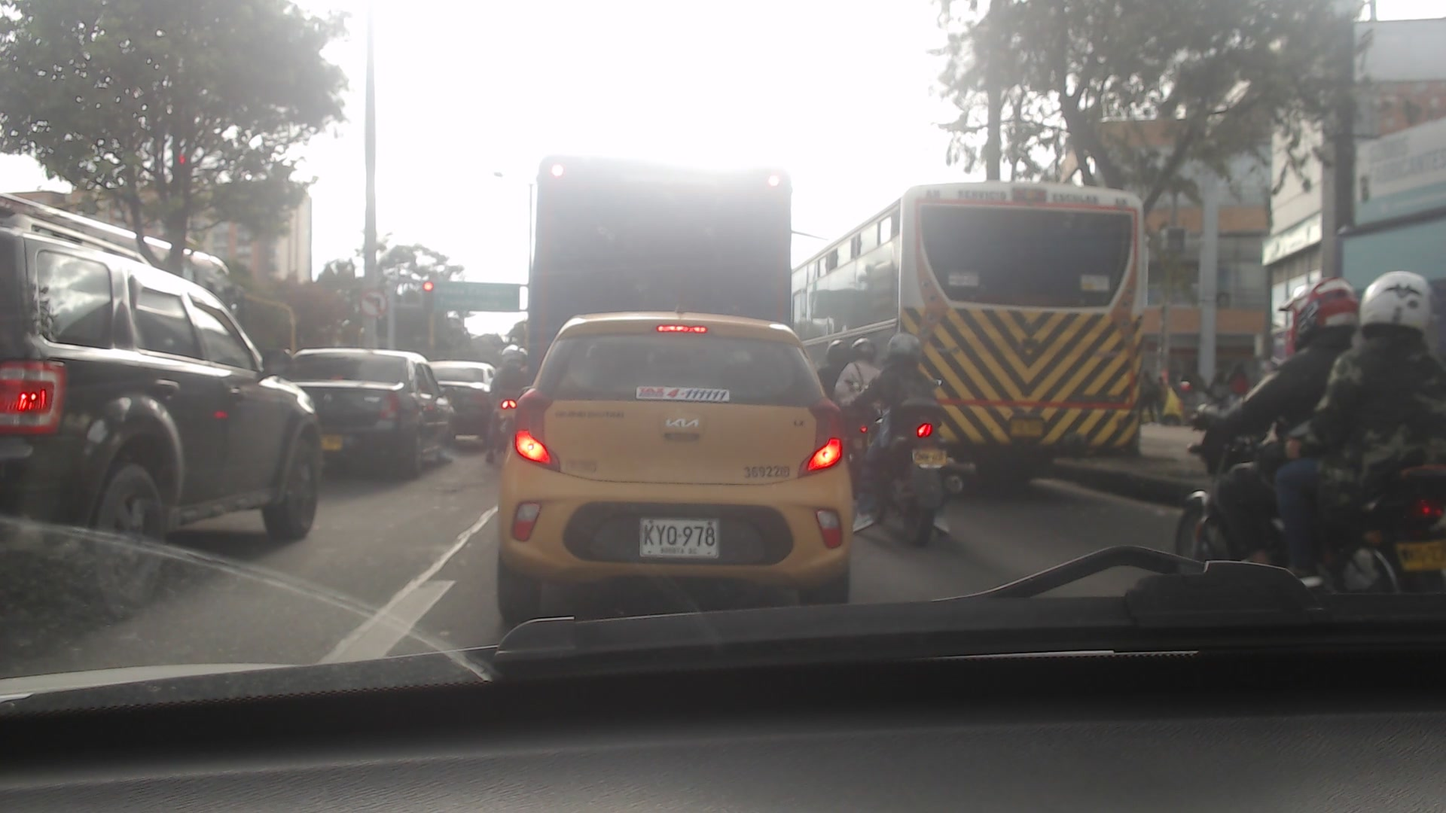bus: (781, 176, 1146, 464)
car: (0, 202, 324, 624), (492, 313, 856, 604), (266, 348, 465, 473)
motorcycle: (1164, 423, 1446, 606), (846, 401, 943, 536), (476, 389, 527, 465)
person: (1199, 268, 1363, 542), (1315, 265, 1446, 544), (865, 332, 946, 478), (830, 336, 883, 405)
truck: (523, 152, 801, 359)
